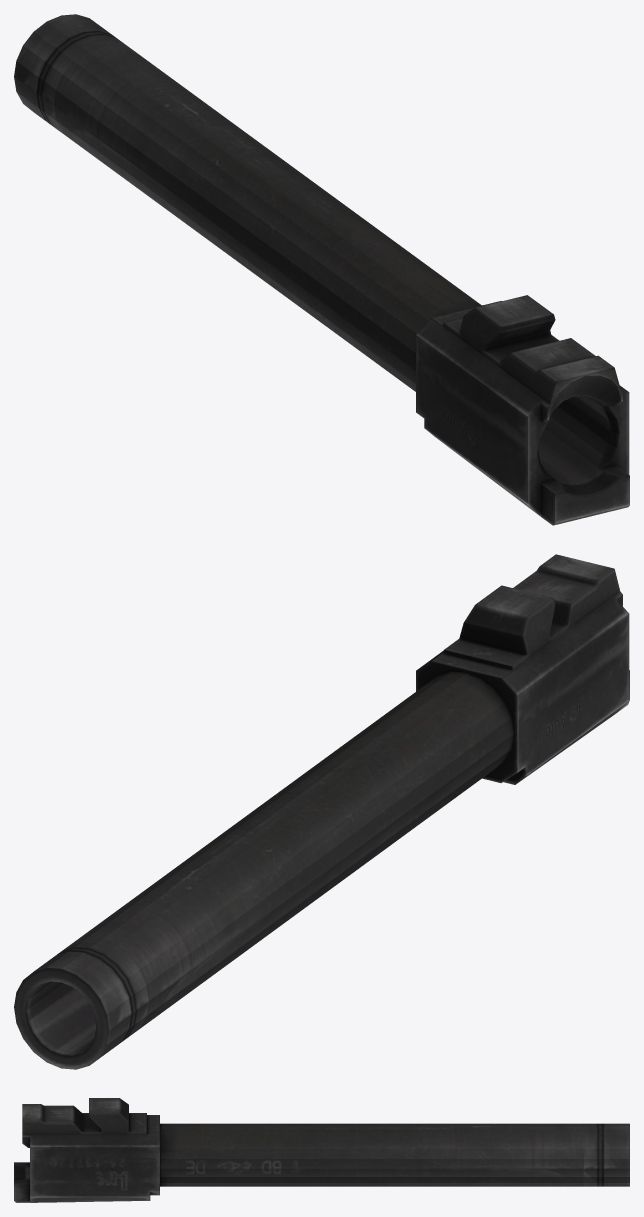
The picture shows the model from 3 angles, top to bottom: view 1: azimuth 30°, elevation 25°; view 2: azimuth 150°, elevation 25°; view 3: azimuth 270°, elevation 25°; orthographic projection. The views are drawn at different scales.
Visible parts, largest first — view 1: TW_6194f017ed0429009f543eaa_PZ_Import; view 2: TW_6194f017ed0429009f543eaa_PZ_Import; view 3: TW_6194f017ed0429009f543eaa_PZ_Import.
Part boxes in pixels (left/top/right/bottom): TW_6194f017ed0429009f543eaa_PZ_Import: left=14, top=14, right=629, bottom=525; TW_6194f017ed0429009f543eaa_PZ_Import: left=14, top=554, right=629, bottom=1069; TW_6194f017ed0429009f543eaa_PZ_Import: left=14, top=1098, right=629, bottom=1202.
Bounding box in the file's own units: 0.00973 × 0.0884 × 0.0138.
Materials: 1 (1 with a texture image).
